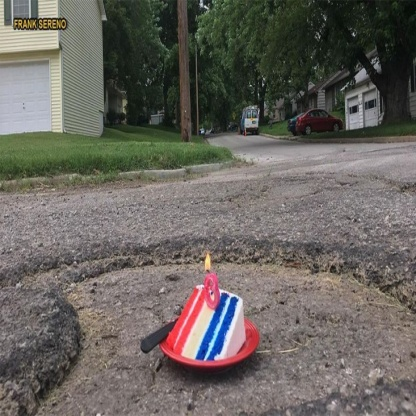pothole: (1, 238, 416, 414)
